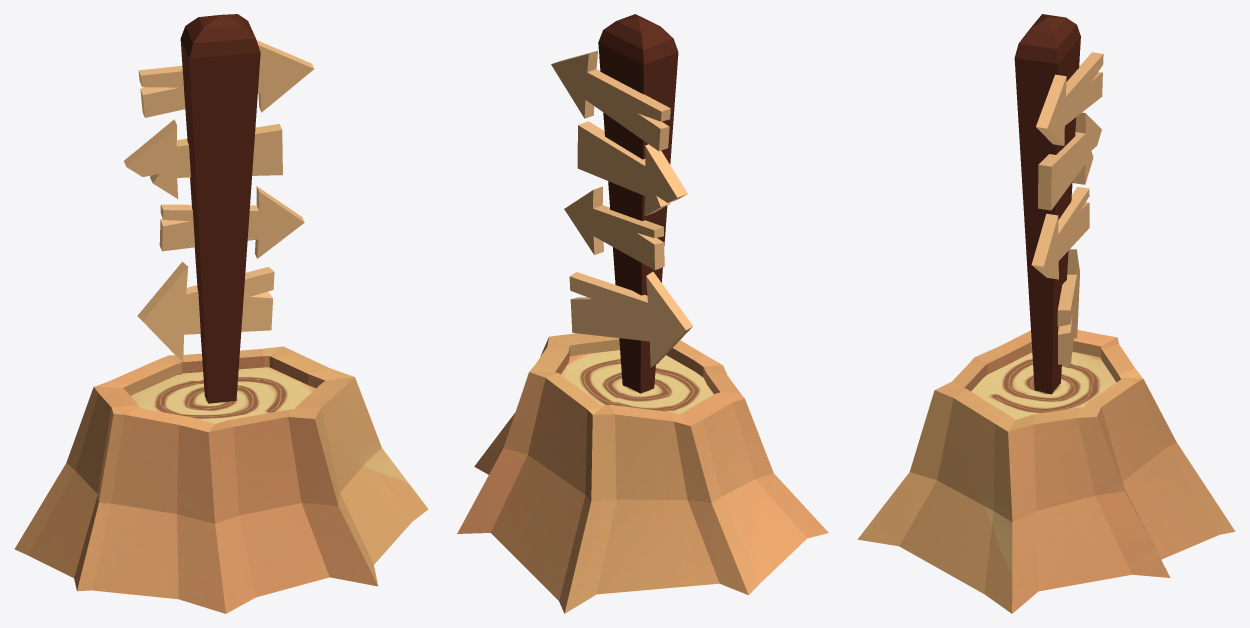
File: sign board.fbx
The picture shows the model from 3 angles, left to right: view 1: azimuth 30°, elevation 25°; view 2: azimuth 150°, elevation 25°; view 3: azimuth 270°, elevation 25°; orthographic projection. The views are drawn at different scales.
Parts seen in each view (by area): view 1: sign board; view 2: sign board; view 3: sign board.
Part boxes in pixels (<box>): sign board: <box>14,14,428,613</box>; sign board: <box>457,14,828,613</box>; sign board: <box>857,14,1235,613</box>.
Bounding box in the file's own units: 43.58 × 62.83 × 41.13.
Materials: 3 (1 with a texture image).
